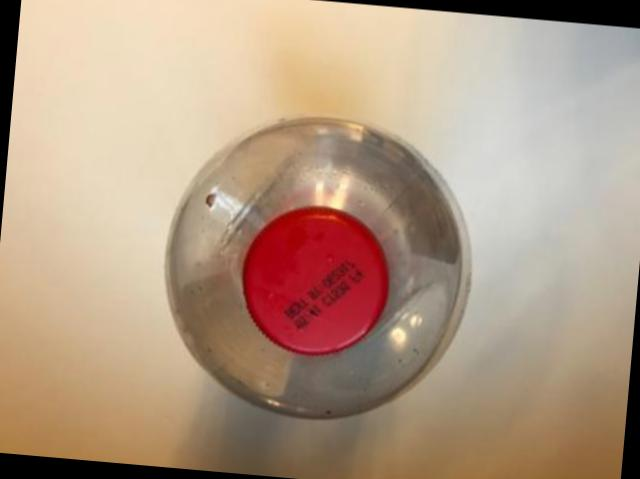plastic: (163, 118, 466, 419)
